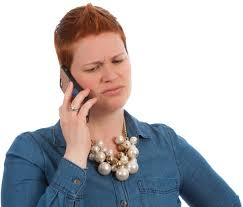phone: (59, 65, 92, 125)
talk: (57, 50, 132, 154)
